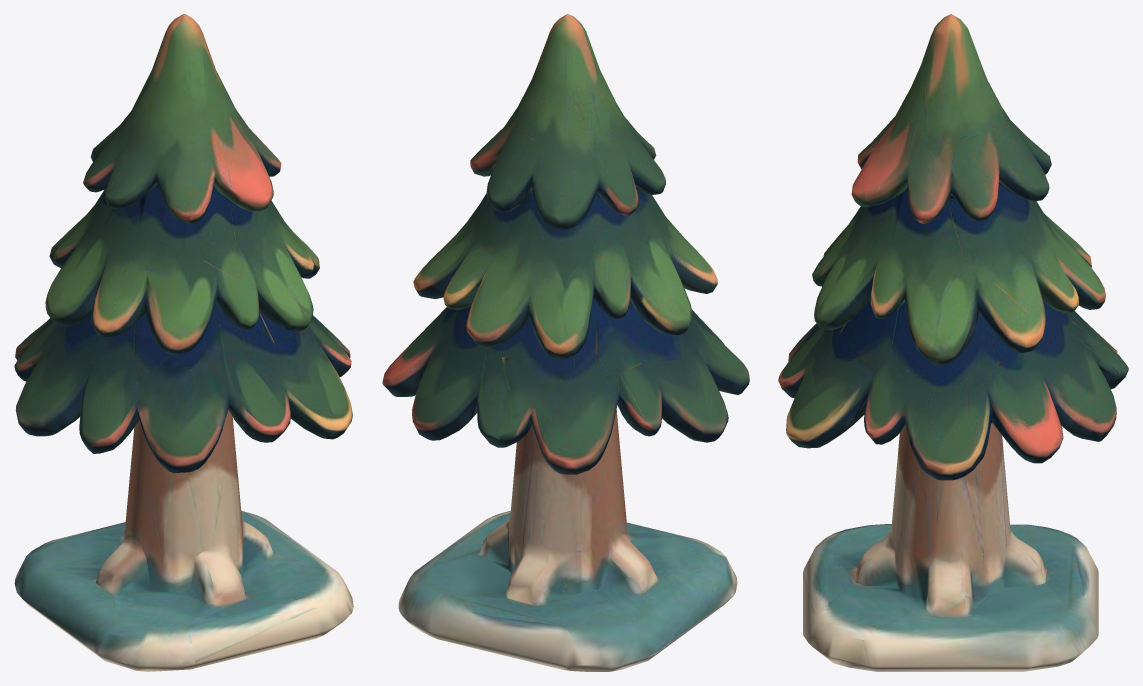
File: pine-tree-512.glb
3 renders of one model, left to right at view 1: azimuth 30°, elevation 25°; view 2: azimuth 150°, elevation 25°; view 3: azimuth 270°, elevation 25°, orthographic.
Size of the model in its own units: 1.07 by 1.9 by 1.01.
Materials: 1 (1 with a texture image).
